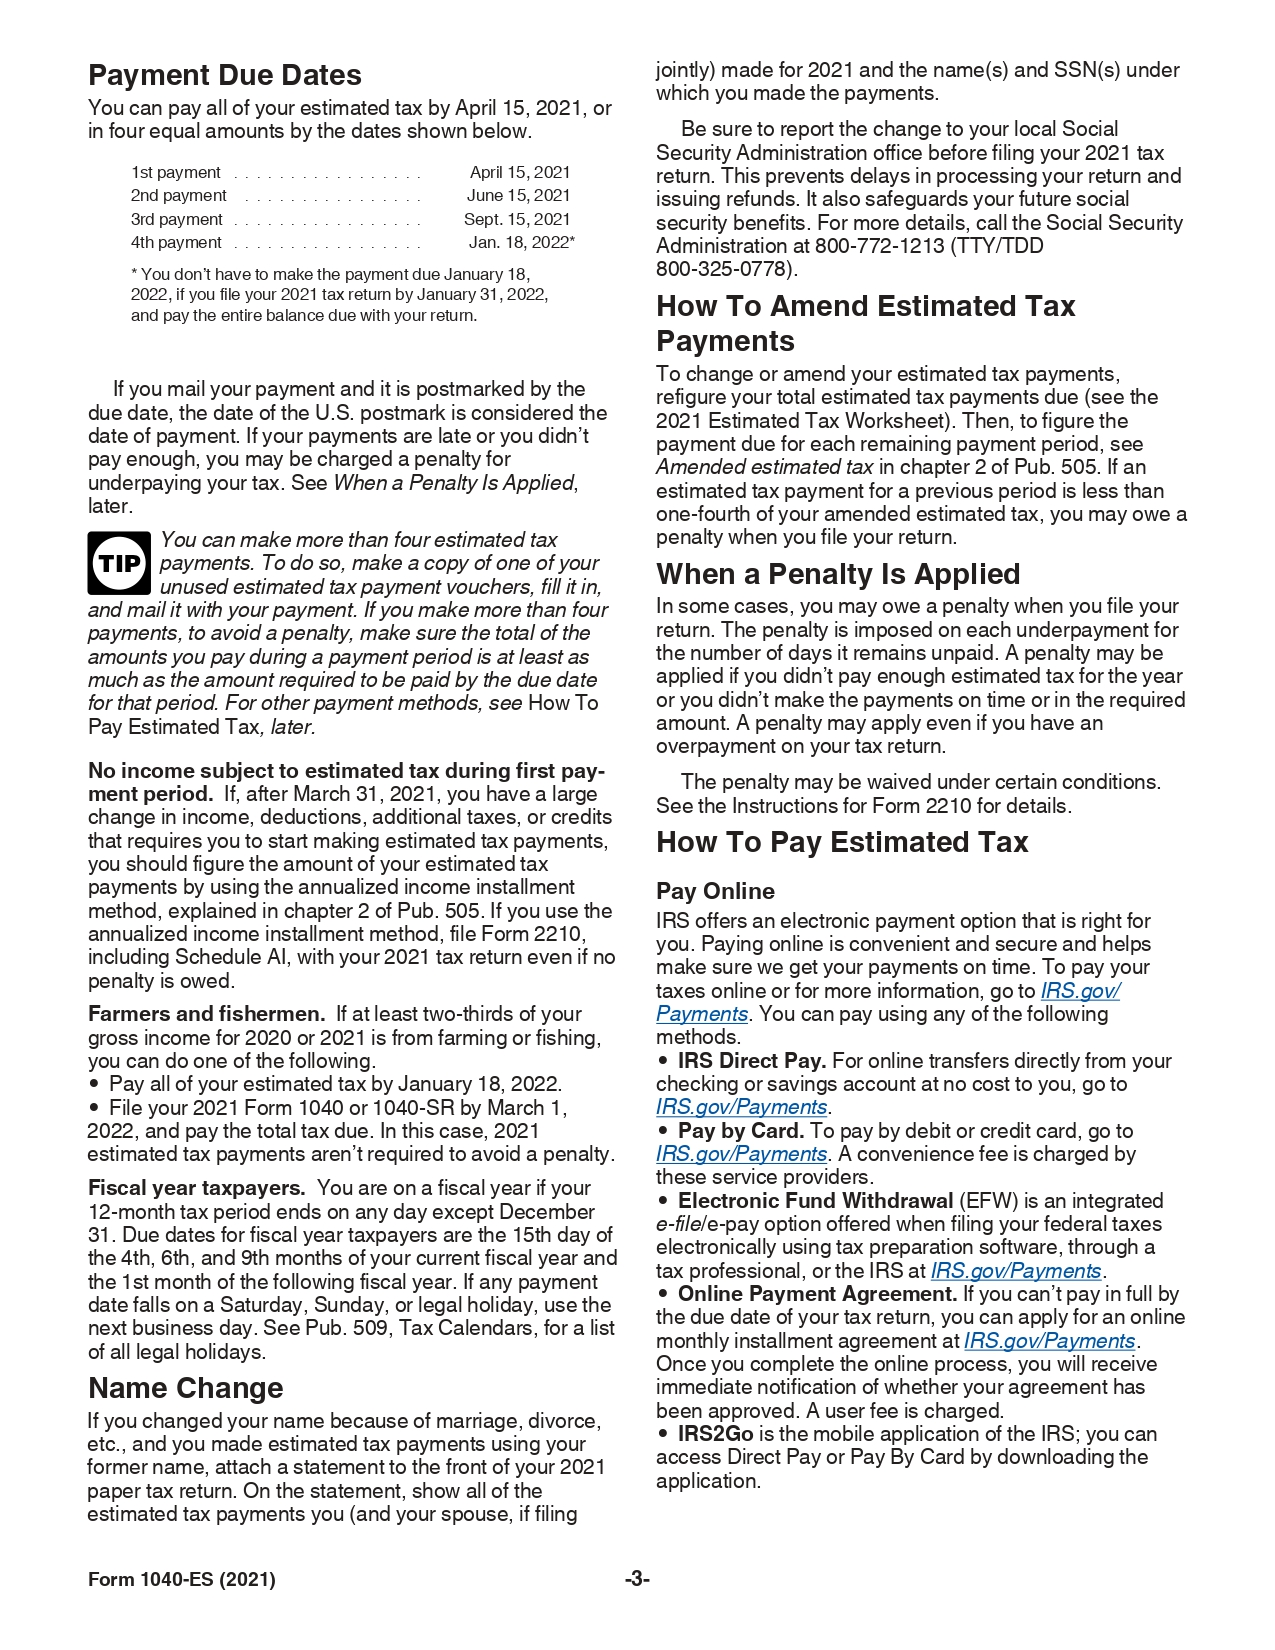table: (111, 158, 601, 267)
